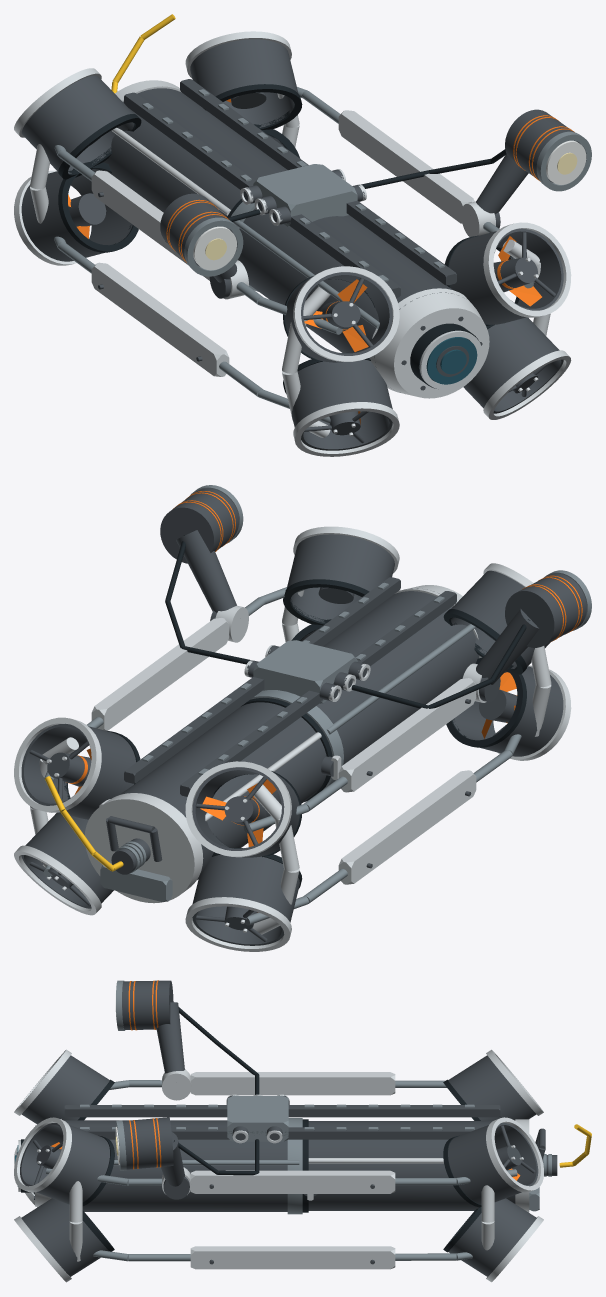
Rendered from chasing-m2-pro-max-reference.glb.
3 views of the same model, one above another, from view 1: azimuth 30°, elevation 25°; view 2: azimuth 150°, elevation 25°; view 3: azimuth 270°, elevation 25° (orthographic). The views are drawn at different scales.
Parts seen in each view (by area): view 1: rov_thrusters, rov_frame, rov_body, rov_lights, rov_battery, rov_camera, rov_tether; view 2: rov_frame, rov_thrusters, rov_battery, rov_body, rov_lights, rov_tether; view 3: rov_frame, rov_thrusters, rov_body, rov_battery, rov_lights, rov_tether.
Boxes of the visible parts, x1,y1,x2,y2 form: rov_thrusters: (21, 39, 563, 450); rov_frame: (14, 31, 571, 456); rov_body: (231, 164, 489, 398); rov_lights: (160, 109, 591, 299); rov_battery: (103, 80, 287, 217); rov_camera: (410, 323, 482, 389); rov_tether: (111, 14, 175, 93); rov_frame: (14, 526, 571, 951); rov_thrusters: (21, 534, 563, 945); rov_battery: (85, 698, 341, 903); rov_body: (244, 585, 481, 802); rov_lights: (160, 485, 591, 708); rov_tether: (45, 776, 150, 874); rov_frame: (14, 1049, 543, 1282); rov_thrusters: (20, 1055, 538, 1276); rov_body: (34, 1094, 302, 1214); rov_battery: (302, 1119, 545, 1212); rov_lights: (115, 980, 259, 1199); rov_tether: (542, 1124, 591, 1176).
Bounding box in the file's own units: 0.4367 × 0.243 × 0.6608.
